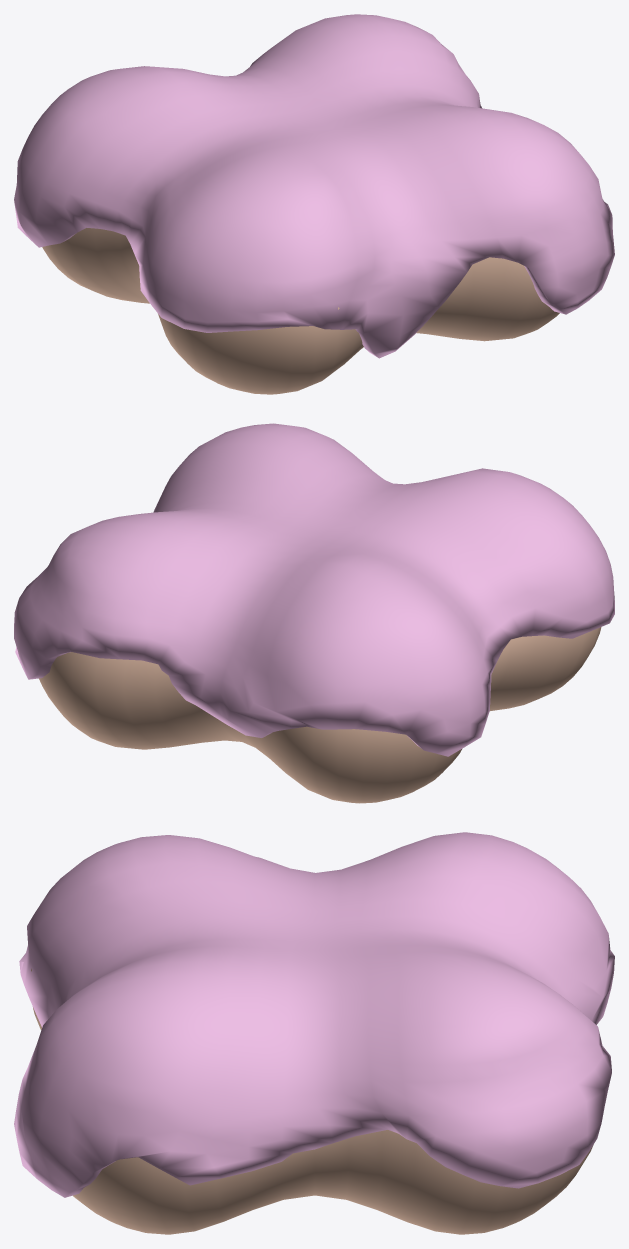
File: wrong red clay.fbx
3 renders of one model, top to bottom at view 1: azimuth 30°, elevation 25°; view 2: azimuth 150°, elevation 25°; view 3: azimuth 270°, elevation 25°, orthographic. The views are drawn at different scales.
Parts seen in each view (by area): view 1: wrong red clay; view 2: wrong red clay; view 3: wrong red clay.
Part boxes in pixels (x1,y1,x2,y2): wrong red clay: (14,14,614,394); wrong red clay: (14,423,614,803); wrong red clay: (14,832,614,1234).
Size of the model in its own units: 190 by 88.81 by 189.
